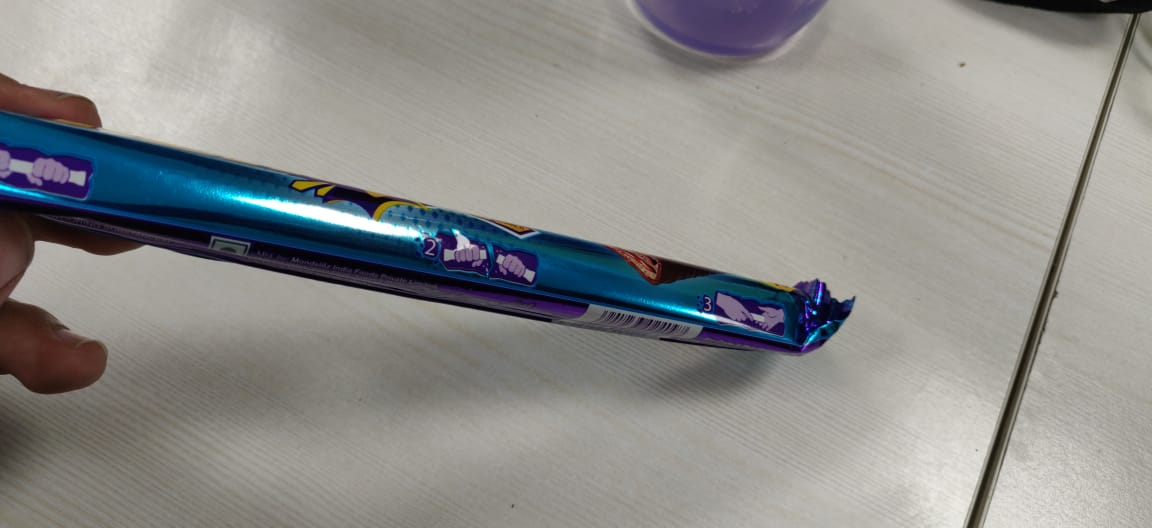perk: (1, 79, 861, 381)
